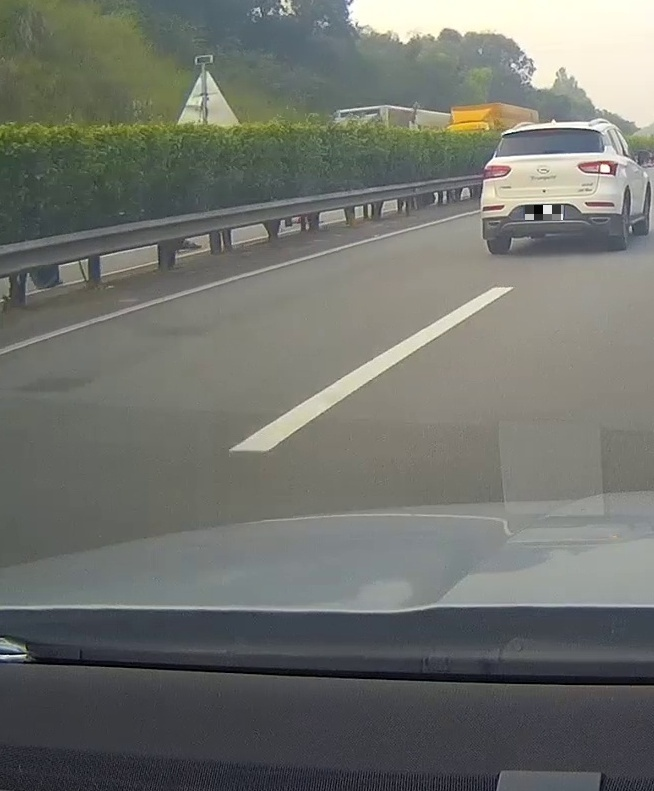L_light: (483, 165, 511, 180)
R_light: (577, 160, 619, 176)
T_light: (539, 127, 558, 133)
day-right: (479, 122, 624, 254)
plate_1: (525, 205, 563, 220)
